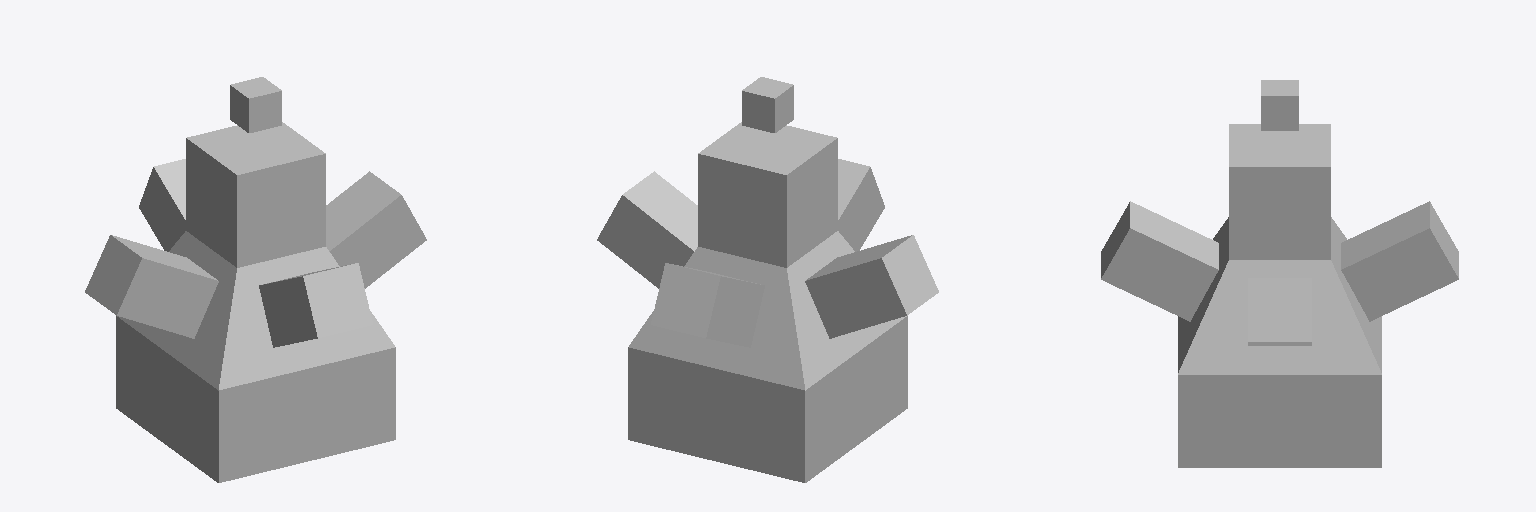
The model's file is portal_generator.obj.
The picture shows the model from 3 angles: view 1: azimuth 30°, elevation 25°; view 2: azimuth 150°, elevation 25°; view 3: azimuth 270°, elevation 25°; orthographic projection.
Visible parts, largest first — view 1: st2, st1, st4, st3, st5, st6; view 2: st2, st1, st4, st3, st6, st5; view 3: st2, st1, st5, st6, st4.
Part boxes in pixels (x1,y1,x2,y2): st2: (117, 122, 394, 390); st1: (116, 316, 395, 482); st4: (230, 77, 426, 288); st3: (85, 235, 218, 338); st5: (259, 263, 372, 347); st6: (139, 159, 185, 251); st2: (629, 122, 906, 390); st1: (628, 316, 907, 482); st4: (597, 77, 793, 288); st3: (805, 235, 938, 338); st6: (651, 263, 764, 347); st5: (838, 159, 884, 251); st2: (1178, 124, 1381, 374); st1: (1178, 375, 1381, 467); st5: (1101, 201, 1218, 321); st6: (1341, 201, 1458, 321); st4: (1248, 80, 1311, 345).
Size of the model in its own units: 1.75 by 1.81 by 1.75.